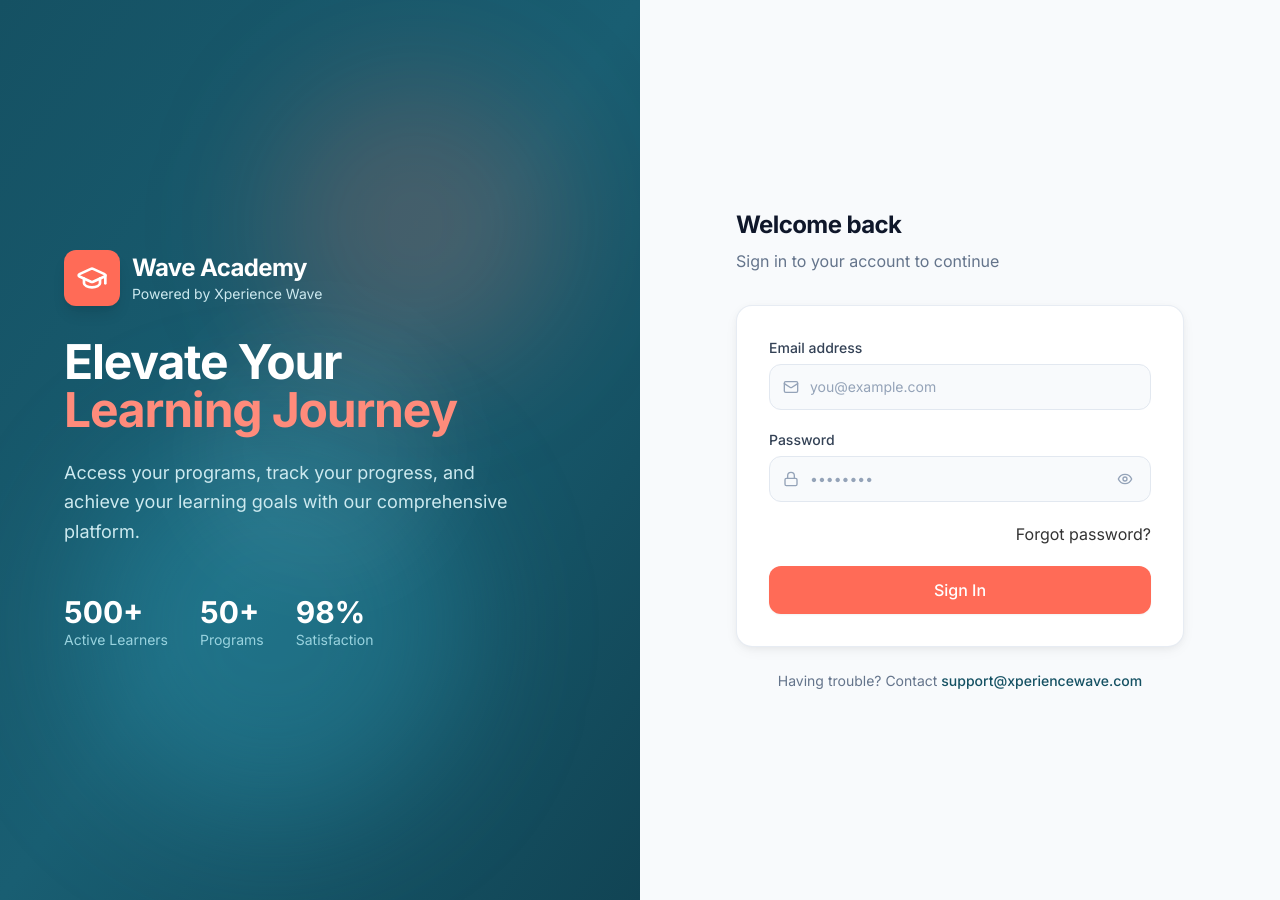
it: LoginPage › shows validation error when submitting empty form
Click the button "Sign In".
click(960, 590)  # box [769, 566, 1151, 614]
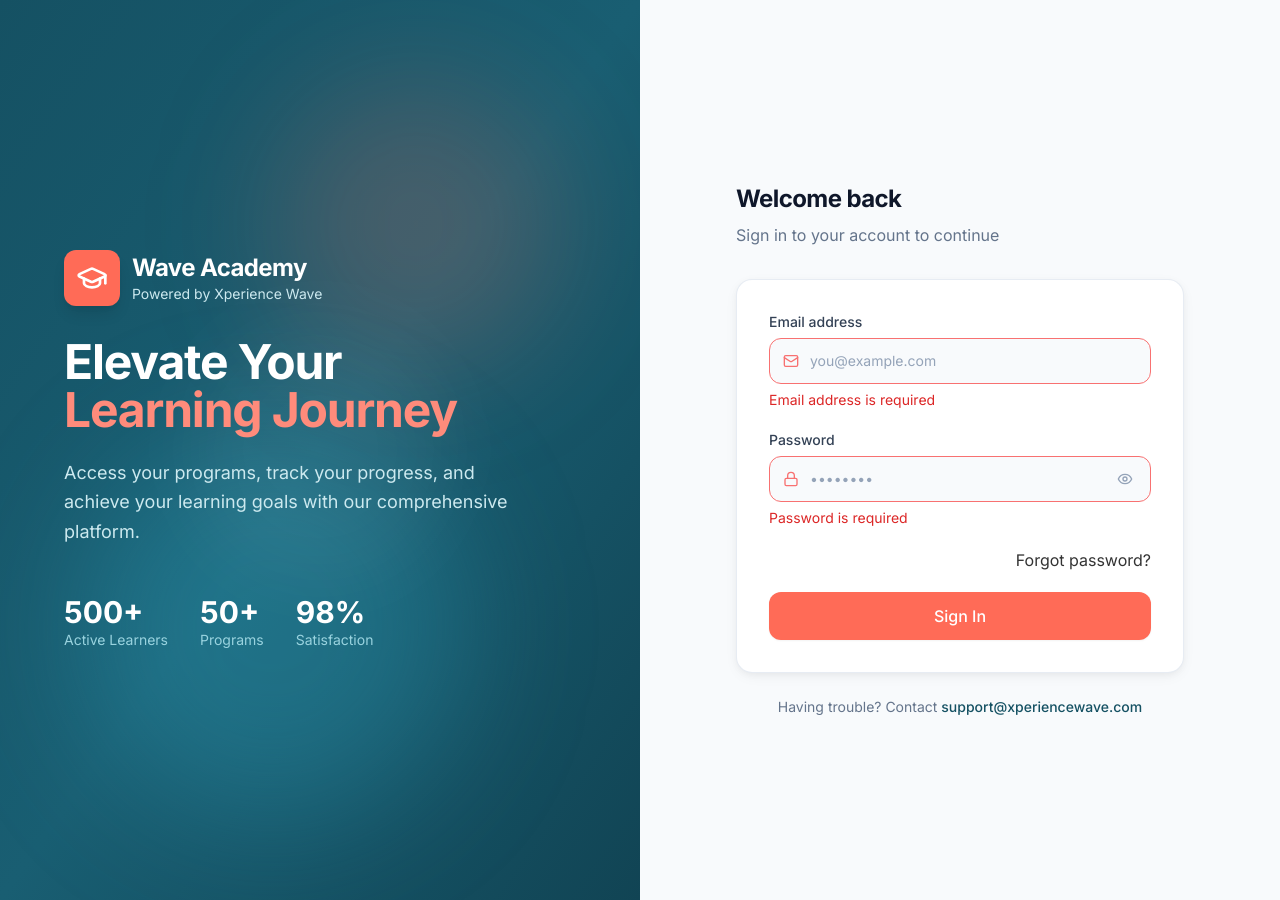
Now the text "Email address is required" is shown, box [769, 391, 935, 408]
